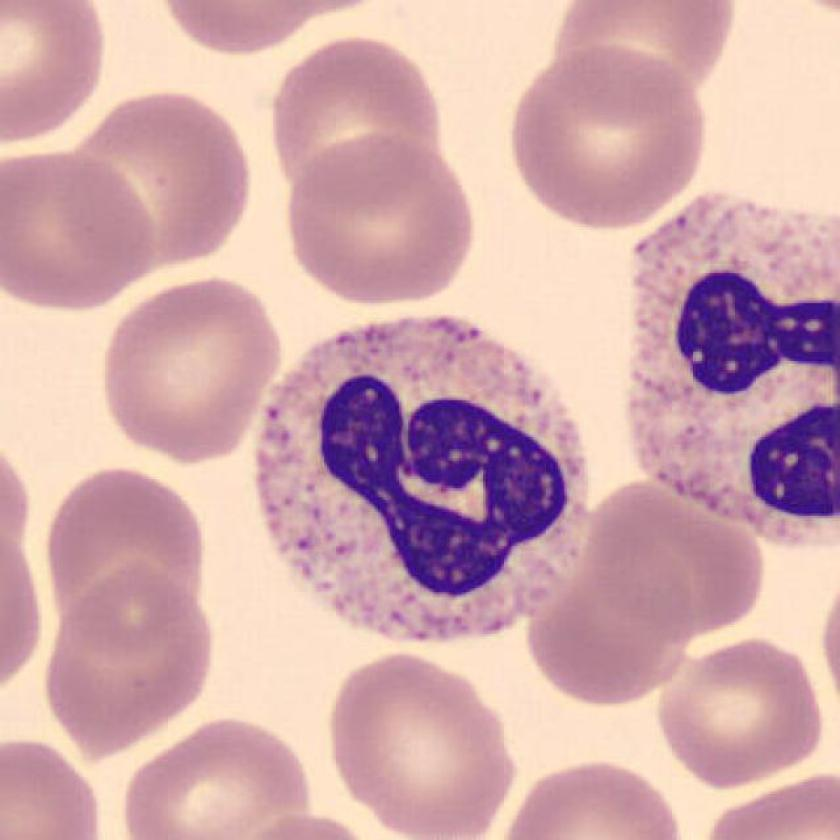neutrophil: (257, 320, 592, 636), (631, 198, 840, 550)
